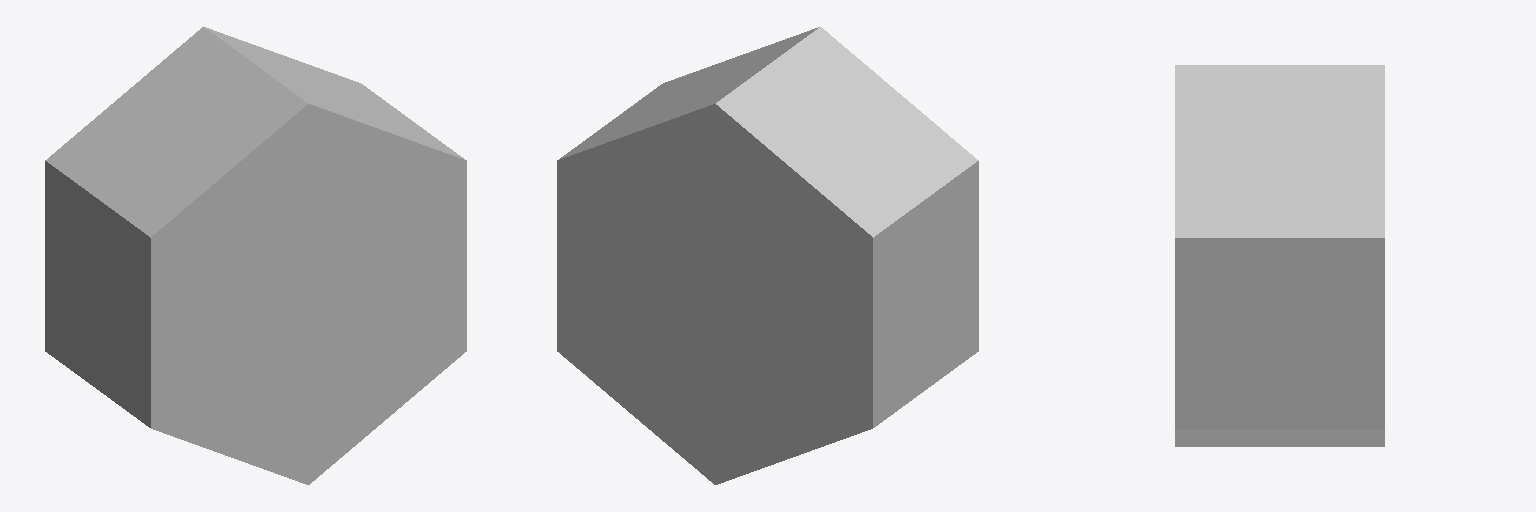
File: wheel.obj
3 renders of one model, left to right at view 1: azimuth 30°, elevation 25°; view 2: azimuth 150°, elevation 25°; view 3: azimuth 270°, elevation 25°, orthographic.
Parts seen in each view (by area): view 1: Cylinder_Cylinder.001; view 2: Cylinder_Cylinder.001; view 3: Cylinder_Cylinder.001.
Boxes of the visible parts, x1,y1,x2,y2 form: Cylinder_Cylinder.001: [45, 27, 466, 484]; Cylinder_Cylinder.001: [557, 27, 978, 484]; Cylinder_Cylinder.001: [1175, 65, 1384, 446].
Size of the model in its own units: 1.73 by 2 by 1.